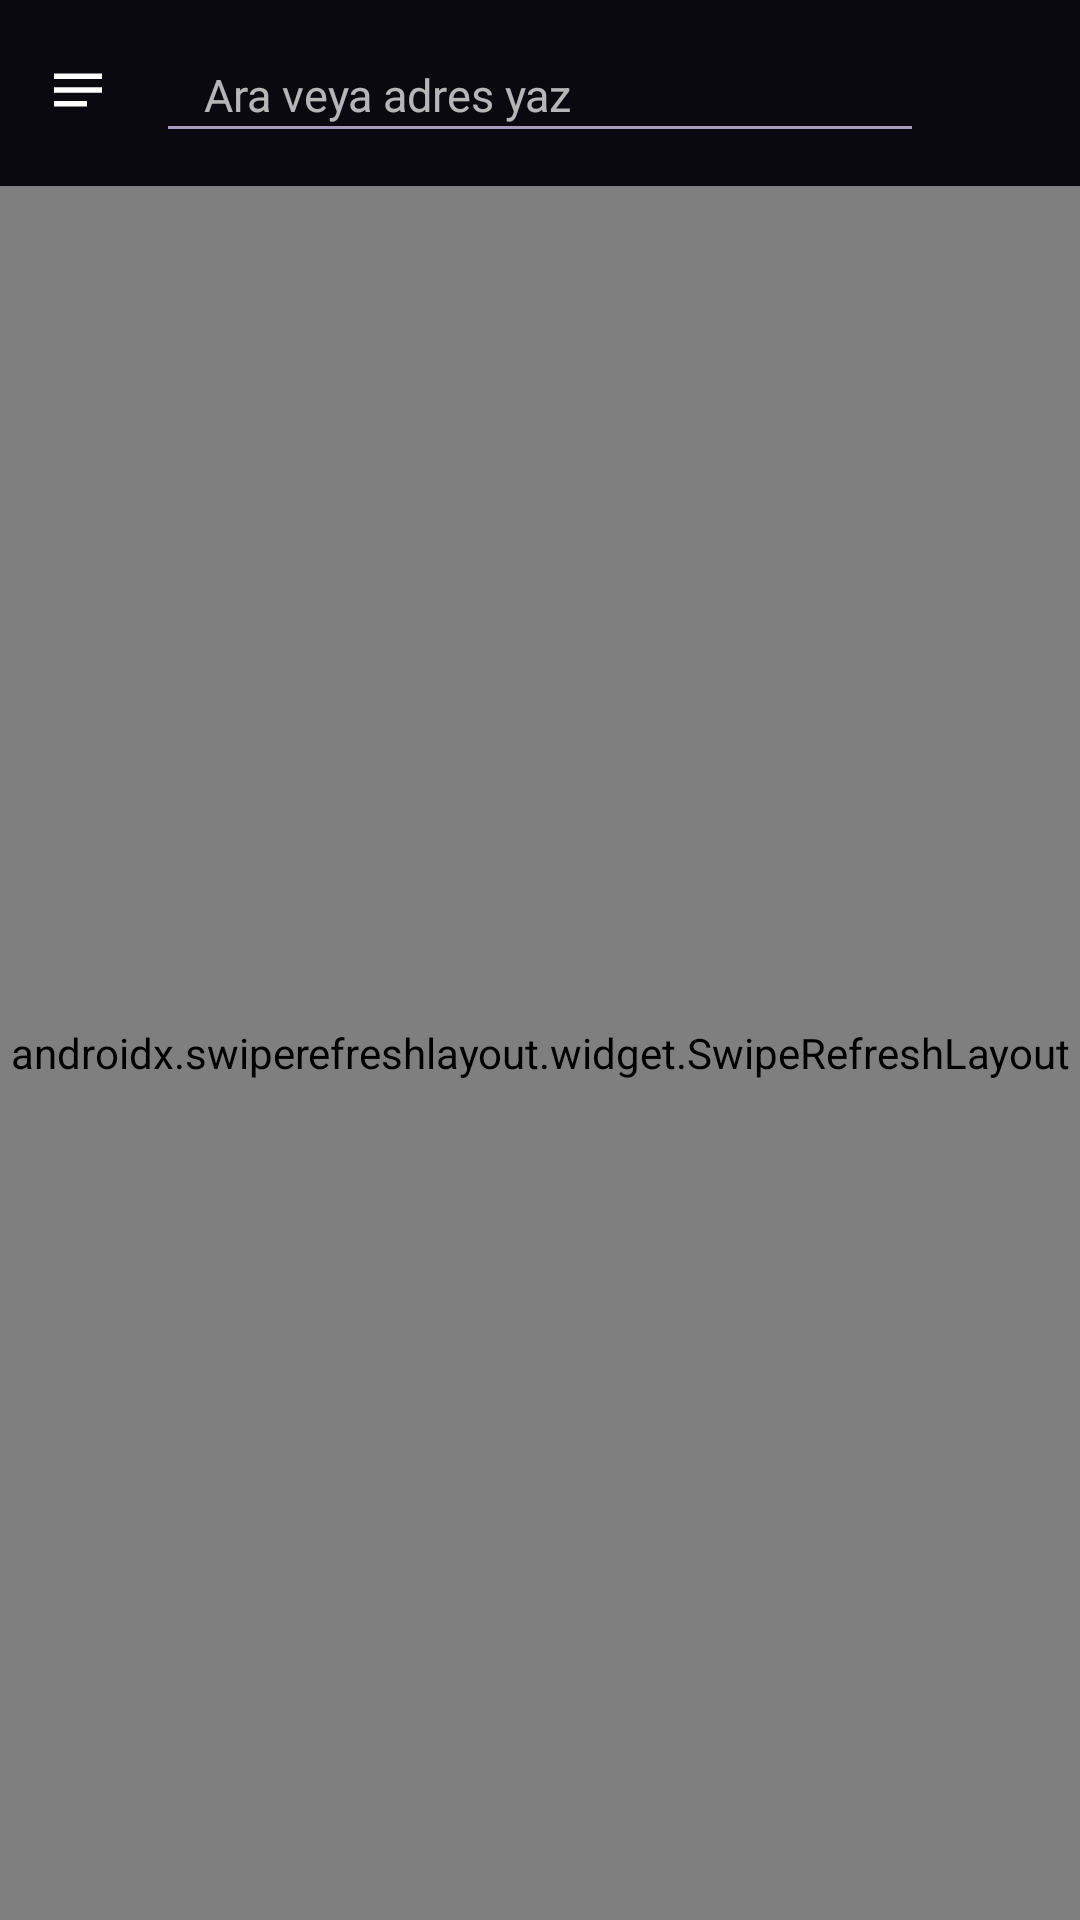

Icon click points for this 1080x1920 phone screenshot, format point (x, y):
Menü: point (78, 90)
